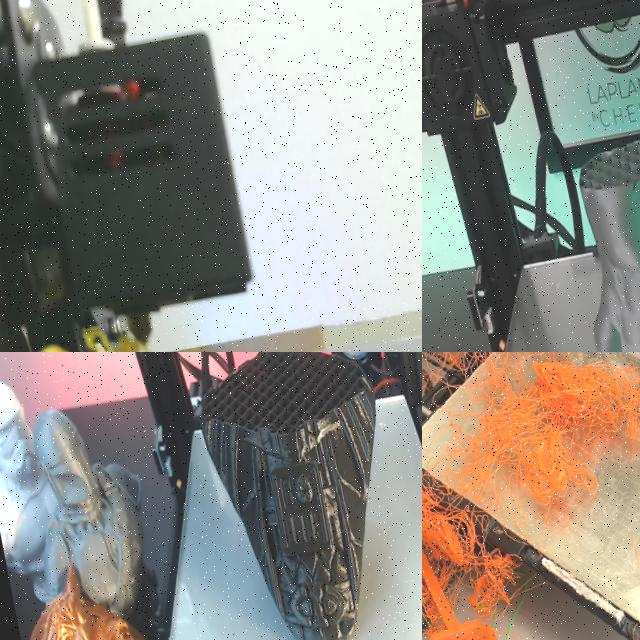spaghetti: (422, 352, 640, 640), (17, 316, 170, 352)
